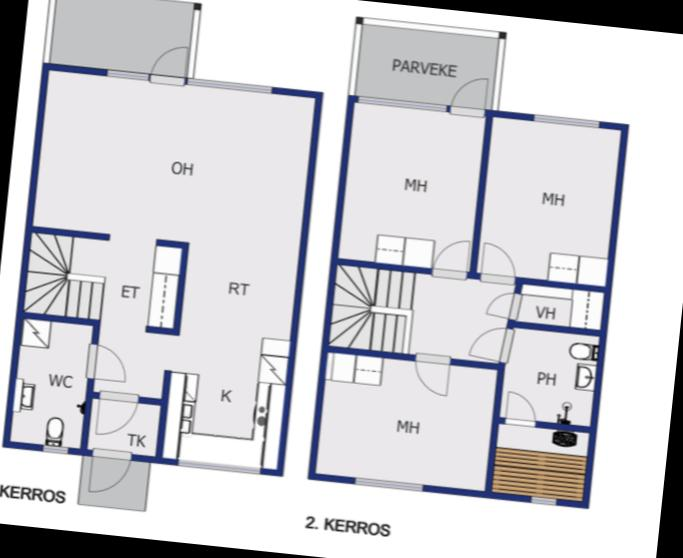door: (85, 446, 133, 502), (92, 384, 140, 438), (464, 319, 517, 367), (80, 340, 132, 387), (444, 72, 492, 122), (407, 350, 454, 401), (475, 240, 522, 290), (426, 234, 474, 282), (144, 43, 192, 88), (500, 390, 541, 431), (481, 286, 525, 322)
window: (170, 455, 265, 482), (182, 74, 274, 97), (352, 95, 450, 116), (525, 110, 607, 134), (345, 474, 430, 497), (101, 67, 152, 86), (524, 491, 562, 511), (35, 440, 71, 459)
